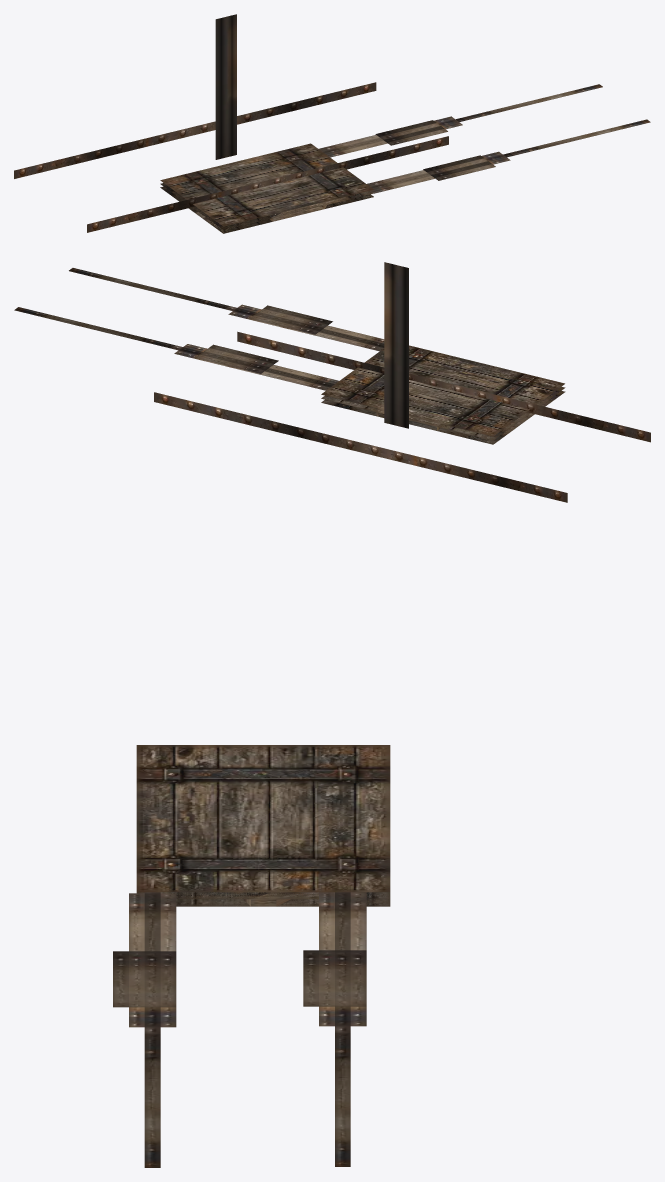
File: handcart_fold.glb
3 views of the same model, one above another, from view 1: azimuth 30°, elevation 25°; view 2: azimuth 150°, elevation 25°; view 3: azimuth 270°, elevation 25° (orthographic). The views are drawn at different scales.
Parts seen in each view (by area): view 1: GEO-handcart; view 2: GEO-handcart; view 3: GEO-handcart.
Part boxes in pixels (box(x1,y1,x2,y2)): GEO-handcart: box(14, 14, 650, 233); GEO-handcart: box(14, 262, 650, 502); GEO-handcart: box(113, 745, 390, 1167).
Bounding box in the file's own units: 3.9 × 1.01 × 1.38.
1 material, 1 textured.
